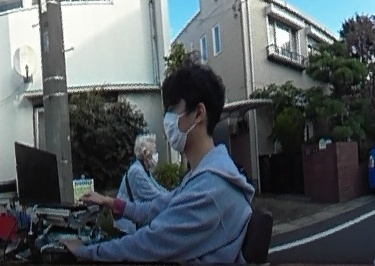person: (56, 63, 253, 266), (106, 137, 164, 206)
